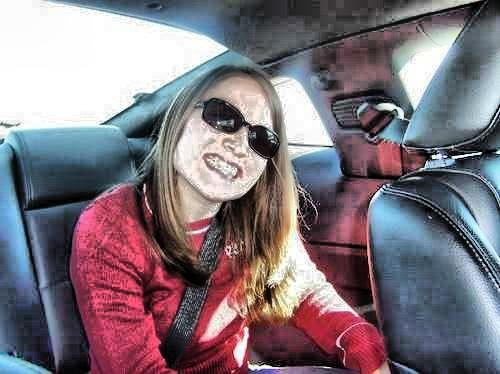seatbelt: (147, 191, 251, 352)
